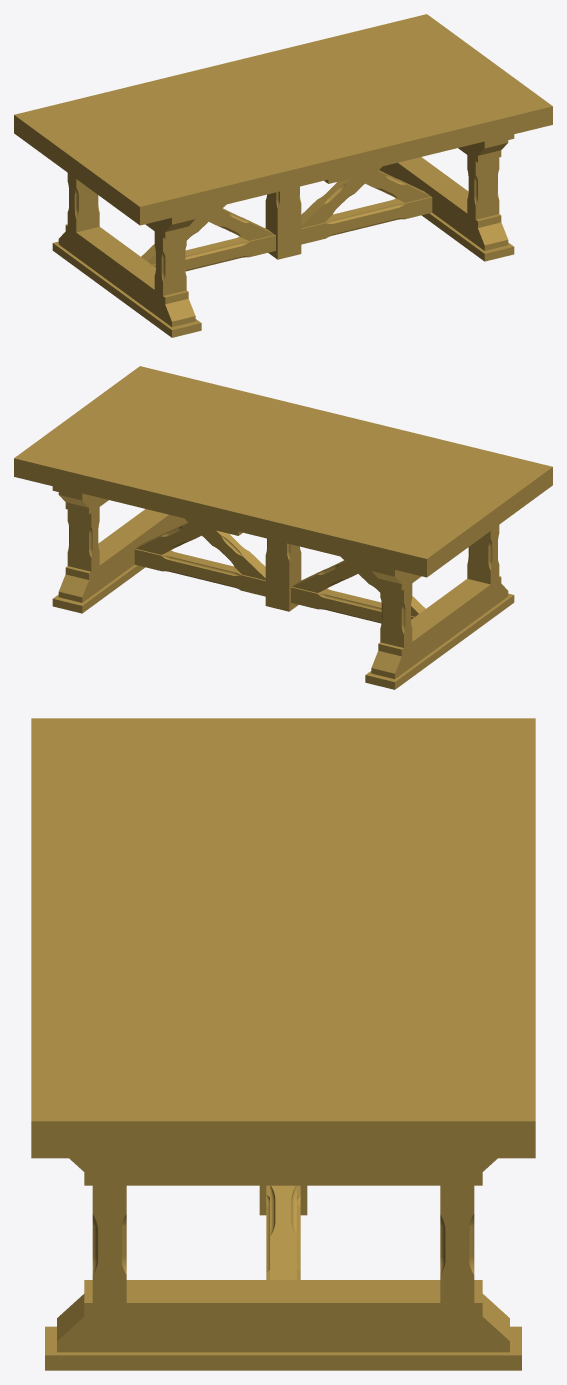
3 renders of one model, top to bottom at view 1: azimuth 30°, elevation 25°; view 2: azimuth 150°, elevation 25°; view 3: azimuth 270°, elevation 25°, orthographic. The views are drawn at different scales.
Parts seen in each view (by area): view 1: PRESTON COFFEE TABLE 521.010-2N7; view 2: PRESTON COFFEE TABLE 521.010-2N7; view 3: PRESTON COFFEE TABLE 521.010-2N7.
Part boxes in pixels (x1,y1,x2,y2): PRESTON COFFEE TABLE 521.010-2N7: (14, 14, 552, 337); PRESTON COFFEE TABLE 521.010-2N7: (14, 366, 552, 689); PRESTON COFFEE TABLE 521.010-2N7: (31, 718, 535, 1370).
Size of the model in its own units: 140 by 46 by 74.
